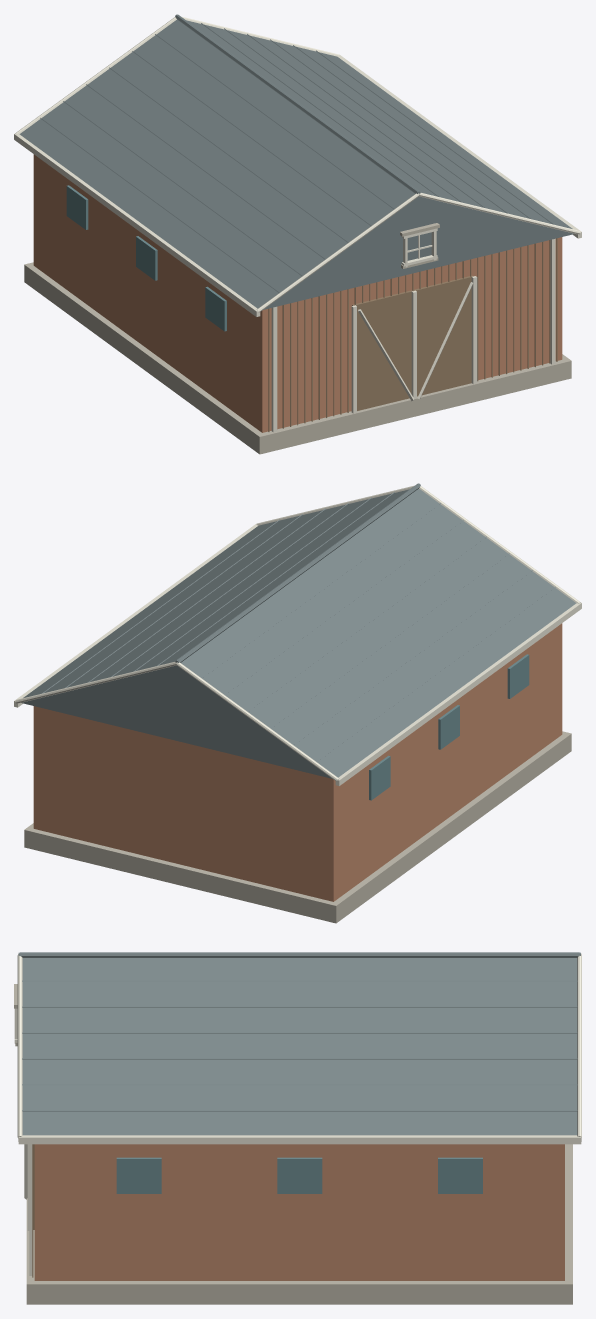
3 views of the same model, one above another, from view 1: azimuth 30°, elevation 25°; view 2: azimuth 150°, elevation 25°; view 3: azimuth 270°, elevation 25° (orthographic). The views are drawn at different scales.
Bounding box in the file's own units: 13.56 × 9.05 × 17.66.
